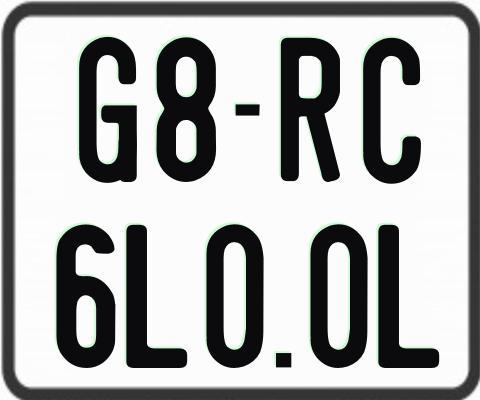0: (310, 222, 373, 371), (204, 223, 265, 372)
6: (55, 221, 115, 370)
8: (153, 36, 216, 185)
C: (361, 37, 424, 189)
G: (76, 36, 134, 182)
L: (378, 224, 445, 368), (124, 225, 186, 373)
R: (280, 36, 344, 183)
